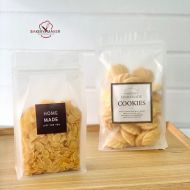Snack: (8, 47, 91, 180)
